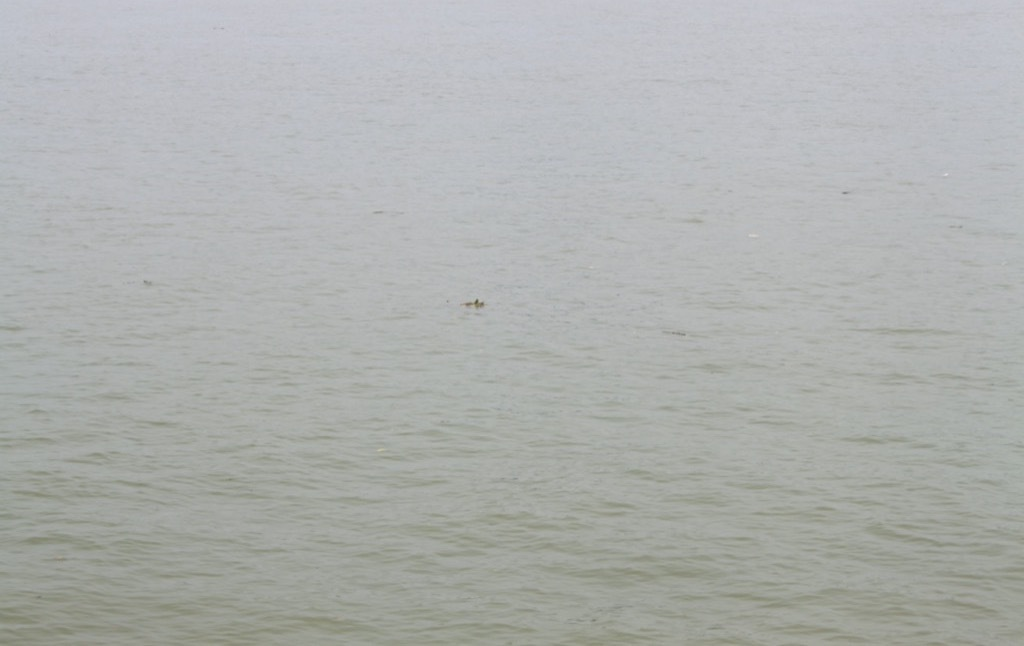organic: (440, 289, 494, 316), (650, 318, 697, 344), (837, 182, 855, 202)
plastic: (744, 230, 767, 241), (941, 168, 952, 179)
